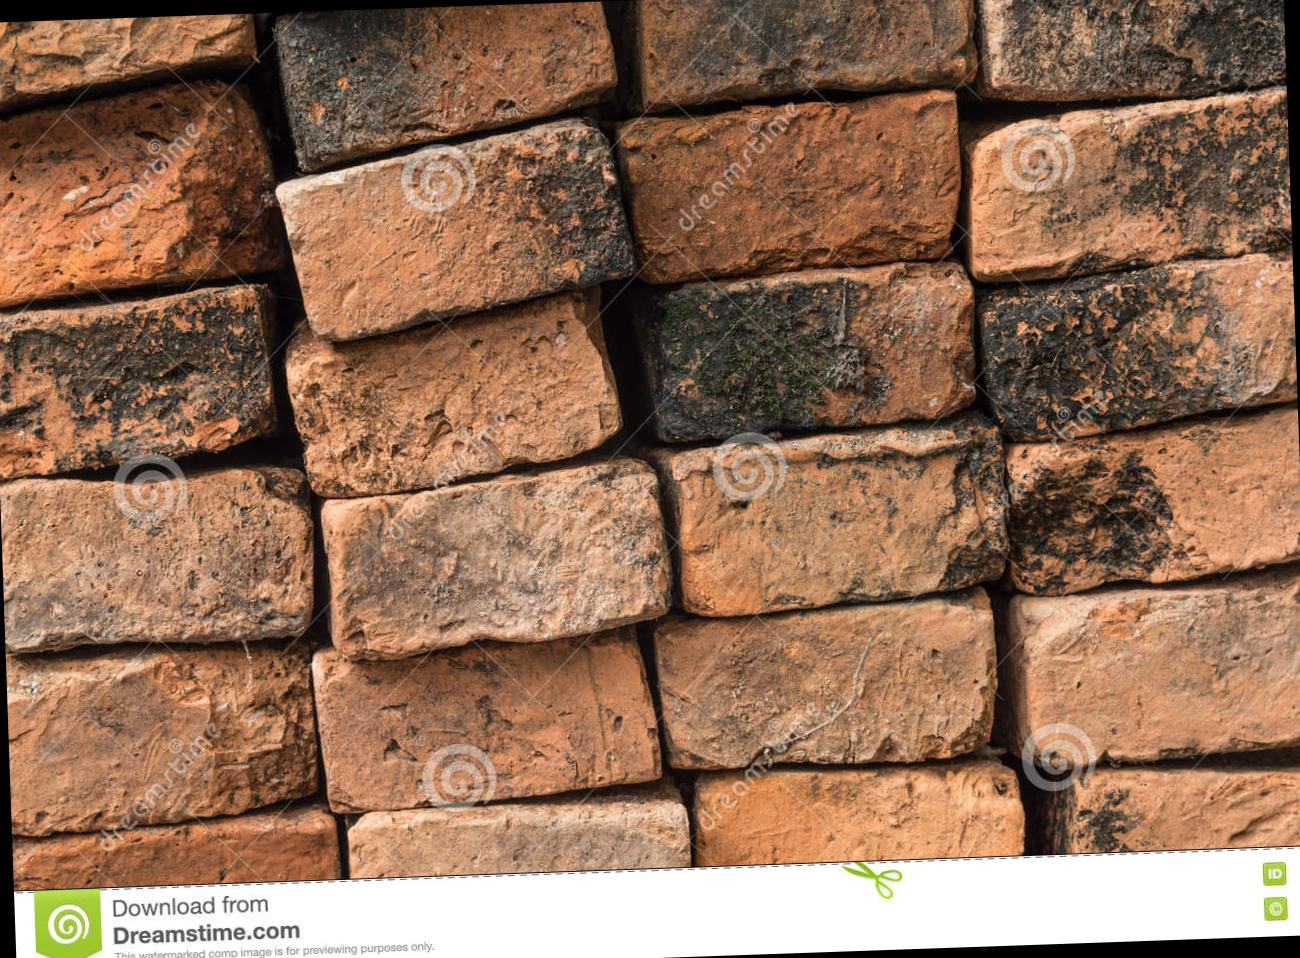brick: (273, 117, 631, 339), (321, 458, 669, 659), (283, 297, 621, 502), (620, 92, 964, 286), (310, 631, 665, 817), (968, 84, 1293, 280), (667, 433, 1010, 617), (0, 79, 273, 306), (644, 260, 979, 444), (977, 251, 1299, 439), (6, 648, 318, 837), (0, 465, 316, 651), (276, 2, 618, 173), (655, 601, 999, 770), (1010, 408, 1300, 595), (0, 286, 276, 477), (1017, 586, 1300, 761), (696, 758, 1025, 864), (641, 0, 976, 102), (979, 0, 1287, 99), (350, 803, 690, 878), (0, 13, 256, 101), (1059, 763, 1300, 853), (12, 822, 337, 887)
